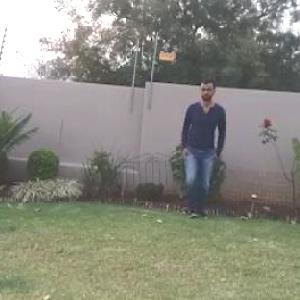follow: (176, 74, 229, 219)
